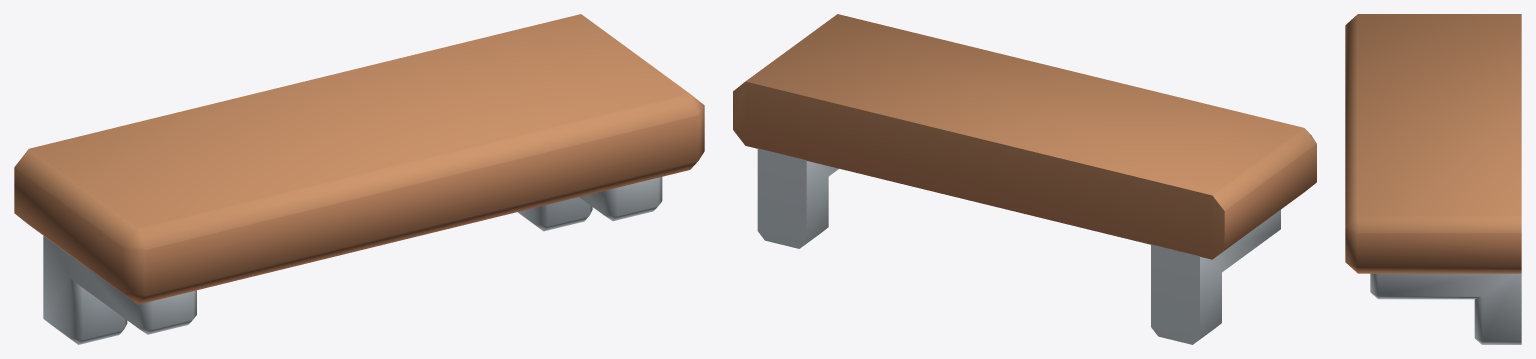
The model's file is wall_shelf.fbx.
3 renders of one model, left to right at view 1: azimuth 30°, elevation 25°; view 2: azimuth 150°, elevation 25°; view 3: azimuth 270°, elevation 25°, orthographic. The views are drawn at different scales.
Parts seen in each view (by area): view 1: wall_shelf; view 2: wall_shelf; view 3: wall_shelf.
Part boxes in pixels (<box>): wall_shelf: <box>14,14,704,344</box>; wall_shelf: <box>733,14,1316,344</box>; wall_shelf: <box>1345,14,1521,344</box>.
Bounding box in the file's own units: 2 × 0.6 × 0.7.
